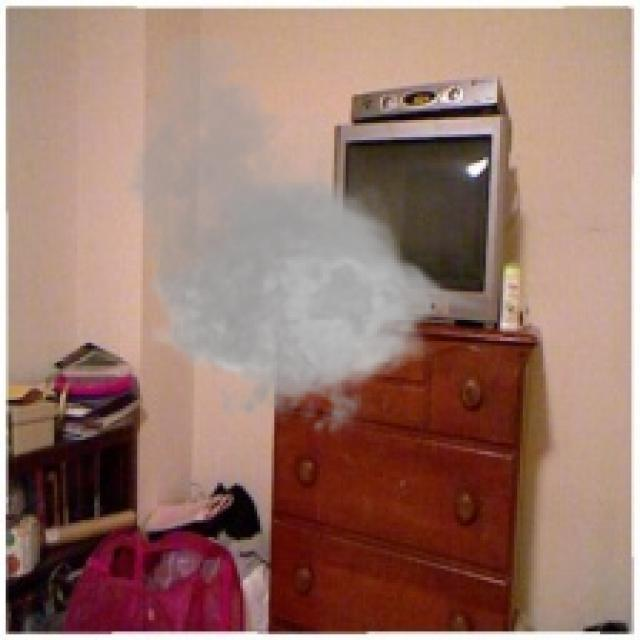Smoke: (109, 26, 492, 448)
